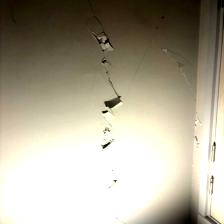Medium: (78, 19, 138, 182)
